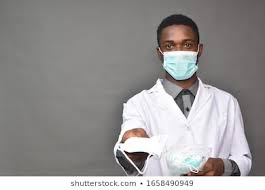masked: (148, 14, 210, 82)
